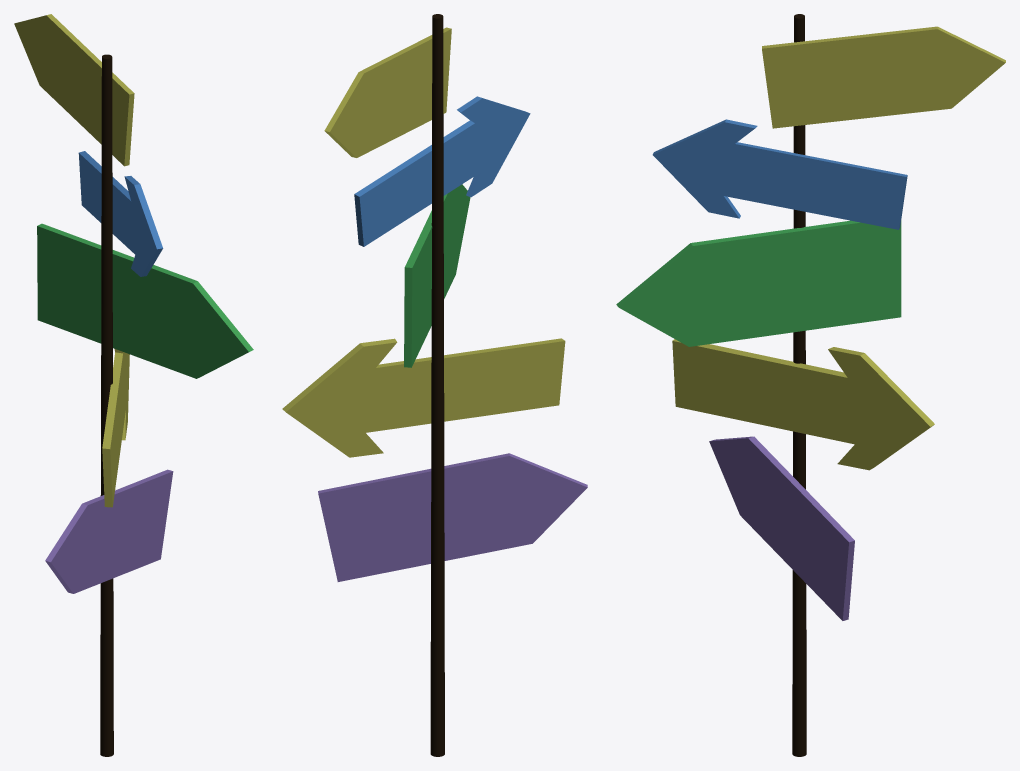
Rendered from Wegweiser.FBX.
3 views of the same model, side by side, from view 1: azimuth 30°, elevation 25°; view 2: azimuth 150°, elevation 25°; view 3: azimuth 270°, elevation 25° (orthographic). The views are drawn at different scales.
Parts seen in each view (by area): view 1: Schild002, Schild004, Schild, Cone001, Schild005, Schild003; view 2: Schild004, Schild003, Schild005, Cone001, Schild, Schild002; view 3: Schild002, Schild003, Schild, Schild005, Schild004, Cone001.
Boxes of the visible parts, x1,y1,x2,y2 form: Schild002: [37, 223, 253, 378]; Schild004: [45, 469, 173, 593]; Schild: [14, 14, 134, 166]; Cone001: [100, 54, 113, 756]; Schild005: [78, 151, 163, 276]; Schild003: [102, 348, 129, 507]; Schild004: [318, 453, 587, 581]; Schild003: [282, 338, 565, 457]; Schild005: [354, 96, 530, 246]; Cone001: [430, 14, 444, 756]; Schild: [324, 27, 451, 157]; Schild002: [404, 184, 470, 367]; Schild002: [616, 220, 901, 346]; Schild003: [672, 339, 934, 470]; Schild: [762, 26, 1005, 128]; Schild005: [652, 119, 907, 229]; Schild004: [709, 436, 854, 620]; Cone001: [792, 14, 806, 756].
Size of the model in its own units: 15.86 by 55.14 by 26.4.
